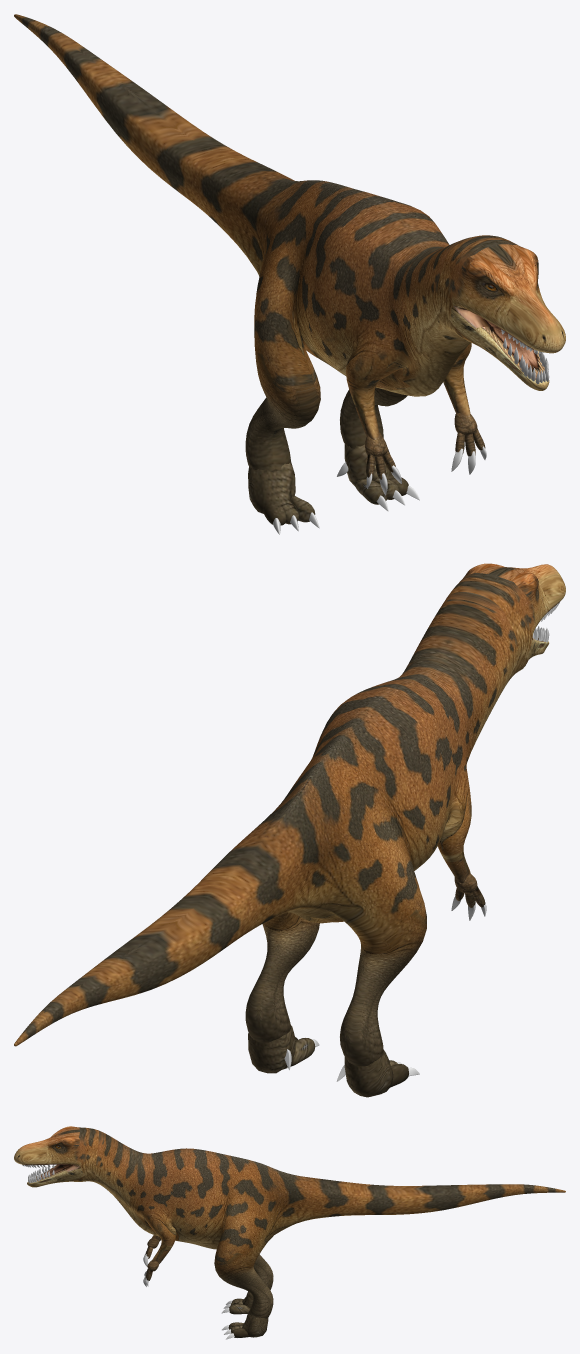
The model's file is 09_สยามแรฟเตอร์.fbx.
The picture shows the model from 3 angles, top to bottom: view 1: azimuth 30°, elevation 25°; view 2: azimuth 150°, elevation 25°; view 3: azimuth 270°, elevation 25°; orthographic projection. The views are drawn at different scales.
Parts seen in each view (by area): view 1: Cube, Cube.009, Cube.004, Cube.007; view 2: Cube, Cube.009; view 3: Cube, Cube.009.
Boxes of the visible parts, x1,y1,x2,y2 form: Cube: [14, 14, 565, 472]; Cube.009: [248, 444, 408, 525]; Cube.004: [366, 428, 486, 495]; Cube.007: [273, 461, 419, 534]; Cube: [14, 563, 565, 1066]; Cube.009: [248, 1025, 408, 1097]; Cube: [14, 1126, 565, 1318]; Cube.009: [228, 1291, 268, 1337].
Bounding box in the file's own units: 172 × 400 × 1037.
4 materials, 2 textured.
